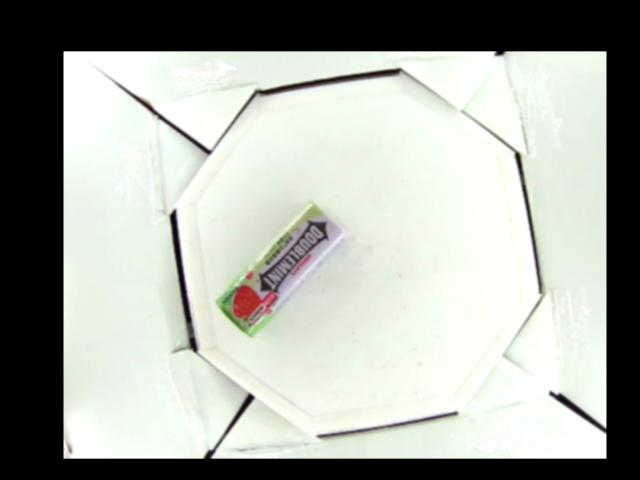Bottle: (216, 199, 345, 340)
